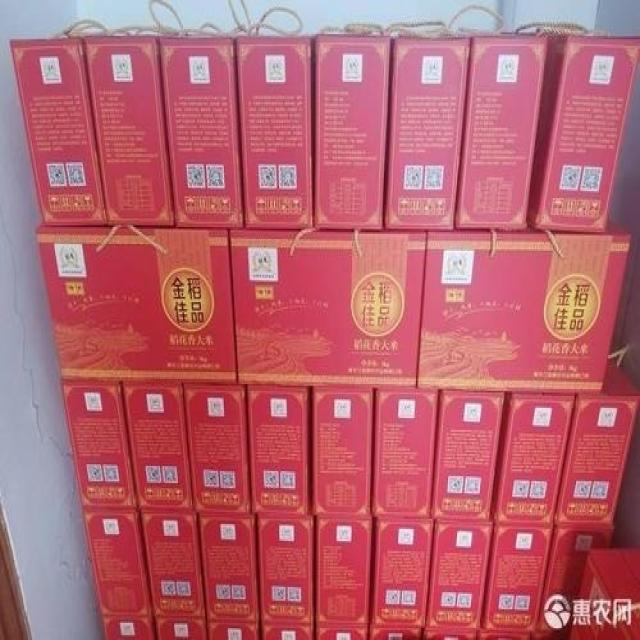box: (418, 216, 628, 392), (229, 228, 428, 388), (35, 226, 236, 384), (529, 34, 639, 232), (10, 38, 107, 226), (456, 36, 546, 230), (81, 36, 172, 226), (384, 37, 471, 230), (157, 36, 244, 228), (233, 37, 311, 230), (314, 36, 390, 232), (554, 356, 639, 526), (489, 392, 575, 526), (64, 380, 140, 516), (432, 390, 503, 522), (121, 381, 193, 511), (182, 383, 251, 516), (309, 387, 375, 520), (372, 389, 439, 519), (537, 526, 614, 634), (247, 386, 308, 518), (426, 515, 493, 630), (481, 526, 551, 635), (138, 512, 207, 620), (371, 520, 434, 630), (84, 516, 151, 618), (199, 517, 260, 623), (312, 518, 371, 626), (571, 546, 639, 638), (255, 517, 312, 624), (101, 617, 155, 638), (151, 619, 206, 638), (206, 620, 261, 638), (260, 624, 314, 638), (314, 625, 367, 638), (366, 627, 424, 638), (424, 629, 477, 638), (477, 630, 531, 638)
